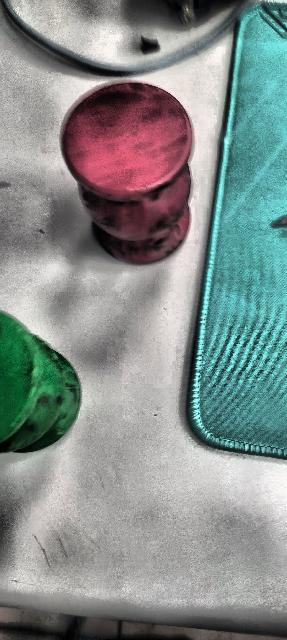green: (1, 311, 81, 454)
red: (50, 82, 200, 266)
